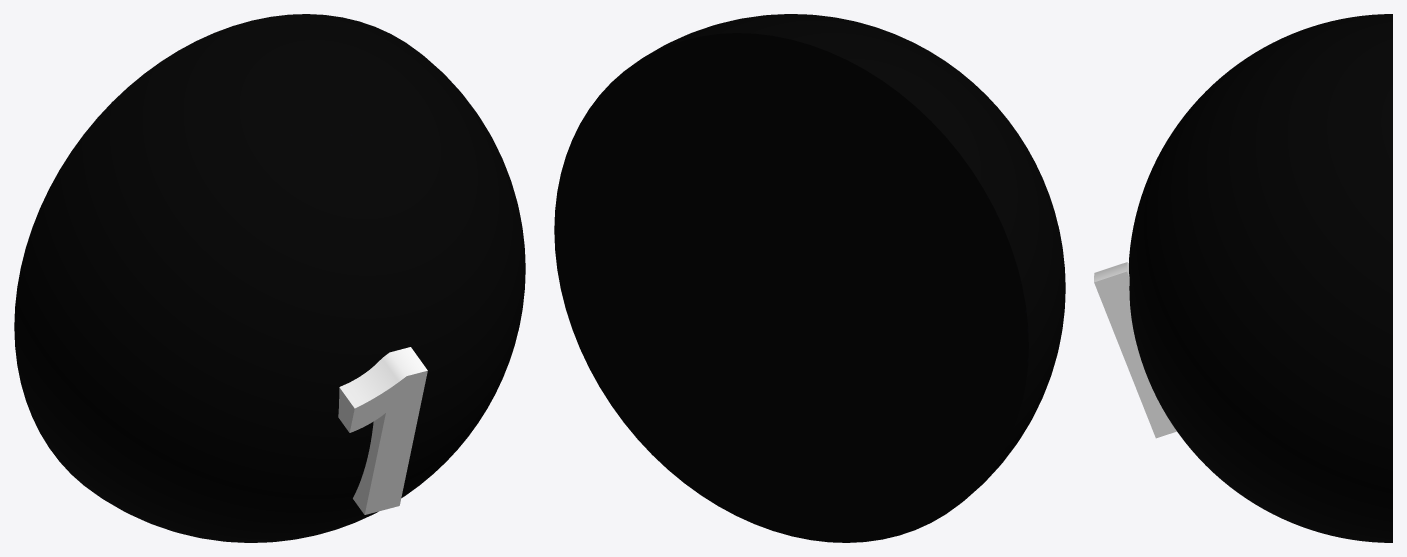
Rendered from button1.fbx.
The picture shows the model from 3 angles, left to right: view 1: azimuth 30°, elevation 25°; view 2: azimuth 150°, elevation 25°; view 3: azimuth 270°, elevation 25°; orthographic projection. The views are drawn at different scales.
Parts seen in each view (by area): view 1: root, node_id220; view 2: root; view 3: root, node_id220.
Part boxes in pixels (bbox=[...]): root: bbox=[14, 14, 525, 542]; node_id220: bbox=[338, 347, 427, 514]; root: bbox=[554, 14, 1065, 542]; root: bbox=[1129, 14, 1392, 542]; node_id220: bbox=[1094, 262, 1176, 438].
Bounding box in the file's own units: 0.4739 × 0.4739 × 0.2677.
2 materials, 2 textured.
